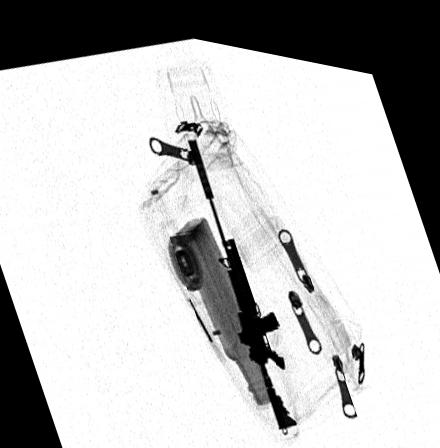Gun: (187, 127, 302, 420)
